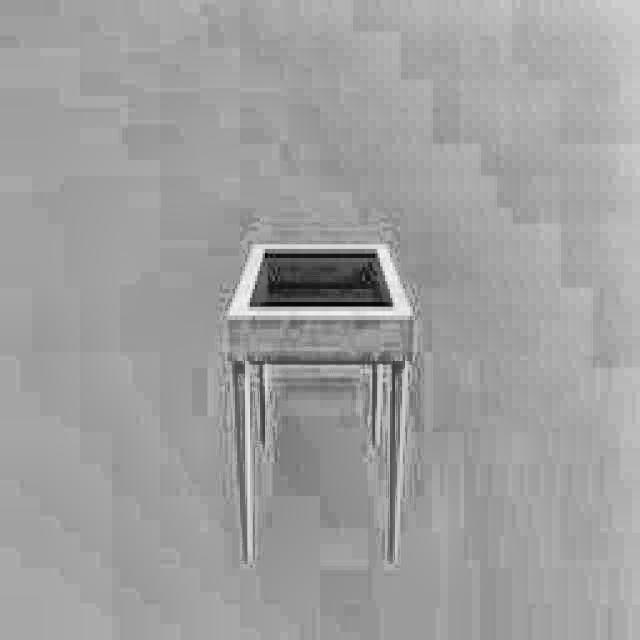mesa: (226, 242, 412, 562)
